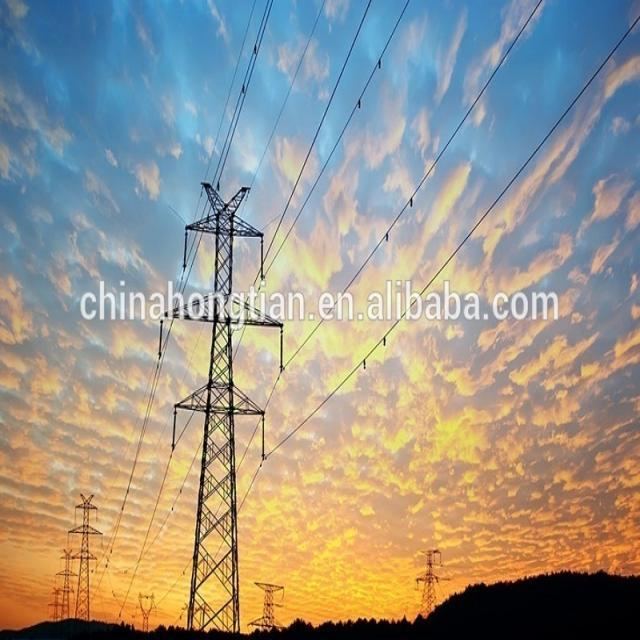non-critical vegetation: (164, 167, 274, 632), (68, 484, 98, 616), (408, 546, 446, 614), (250, 574, 284, 628), (132, 583, 155, 630), (48, 583, 62, 618)
